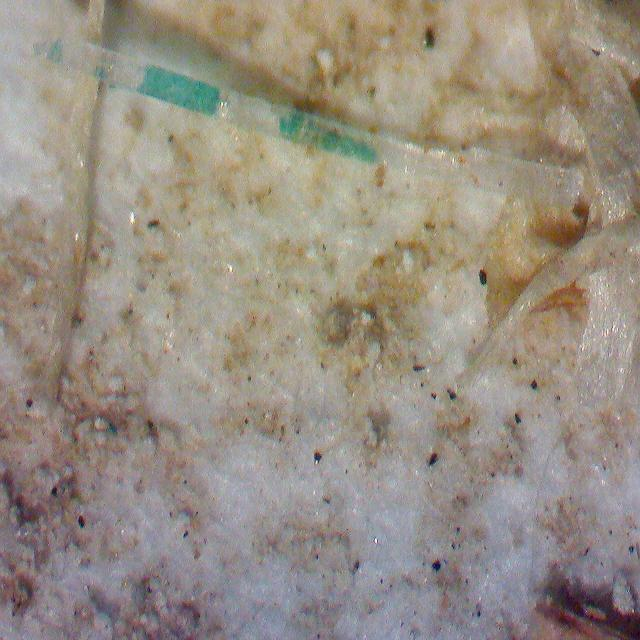microplastic: (0, 23, 586, 209)
